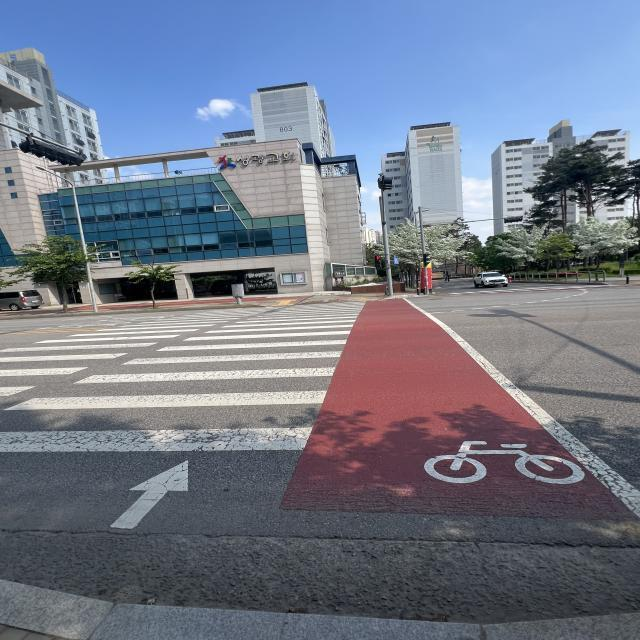crosswalk: (0, 277, 556, 531)
red-crossing: (370, 250, 387, 272)
